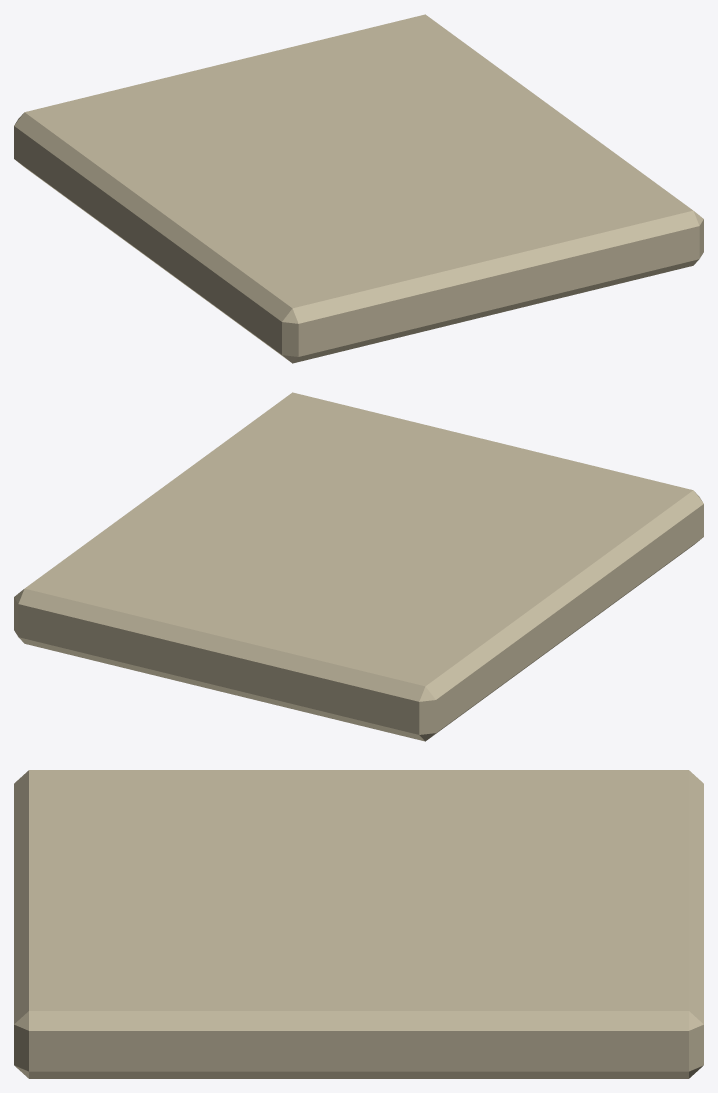
The model's file is set_rolled_blueprints.glb.
The picture shows the model from 3 angles, top to bottom: view 1: azimuth 30°, elevation 25°; view 2: azimuth 150°, elevation 25°; view 3: azimuth 270°, elevation 25°; orthographic projection. The views are drawn at different scales.
Visible parts, largest first — view 1: set_rolled_blueprints; view 2: set_rolled_blueprints; view 3: set_rolled_blueprints.
Part boxes in pixels (<box>): set_rolled_blueprints: <box>14,14,703,363</box>; set_rolled_blueprints: <box>14,392,703,741</box>; set_rolled_blueprints: <box>14,770,703,1078</box>.
Bounding box in the file's own units: 0.2 × 0.025 × 0.23.
